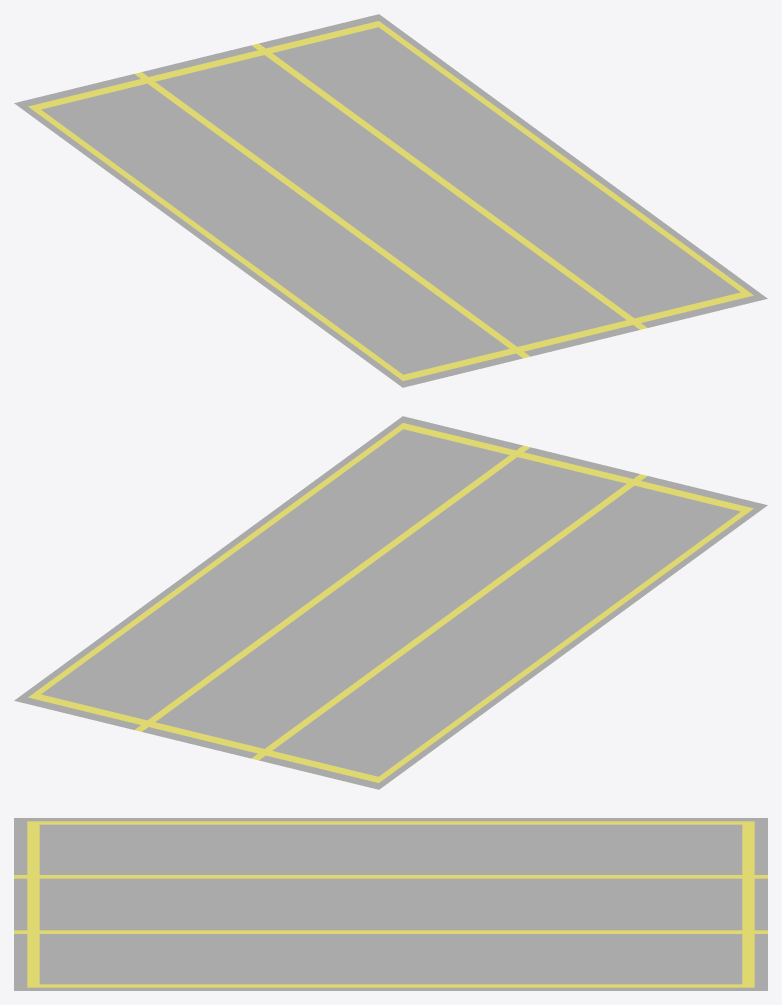
Rendered from hanger_road.fbx.
3 renders of one model, top to bottom at view 1: azimuth 30°, elevation 25°; view 2: azimuth 150°, elevation 25°; view 3: azimuth 270°, elevation 25°, orthographic. The views are drawn at different scales.
Parts seen in each view (by area): view 1: Plane; view 2: Plane; view 3: Plane.
Boxes of the visible parts, bbox=[...] form: Plane: bbox=[14, 14, 767, 387]; Plane: bbox=[14, 416, 767, 789]; Plane: bbox=[14, 818, 767, 990].
Size of the model in its own units: 2005 by 0.000603 by 3699.
